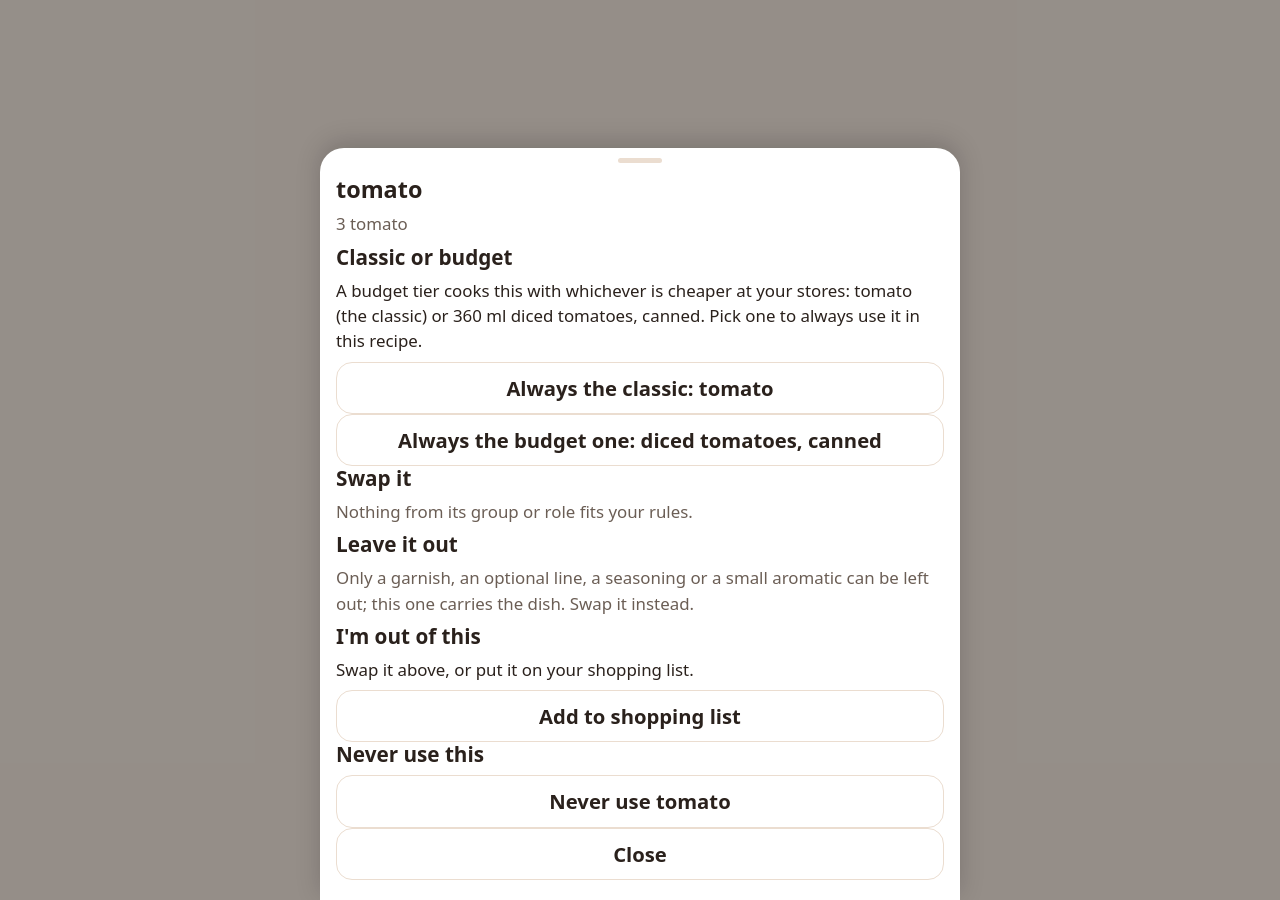
Scenario: a line's ⋯ (AA5) › a line with a budget equivalent can be fixed to either side for this recipe (2b.6 approval, item 4)
Expected: the heading "Classic or budget" is shown, [336,243,512,271]
Expected: the text "whichever is cheaper at your stores: tomato (the classic) or 360 ml diced tomatoes, canned" is shown, [336,278,944,354]
Click the button "Always the budget one: diced tomatoes, canned" at (640, 440), box [336,414,944,466]
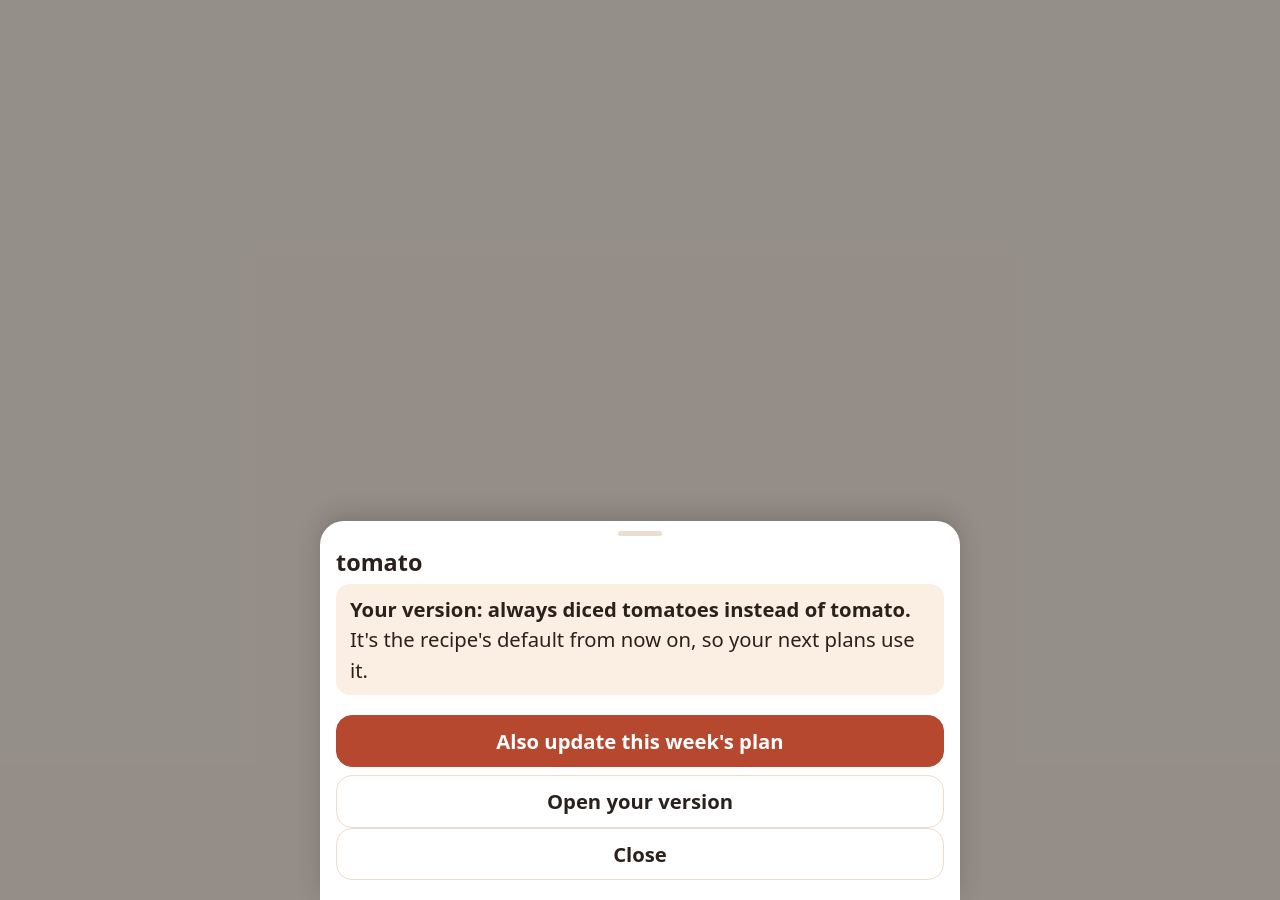
Expected: the text "Your version: always diced tomatoes instead of tomato." is shown, [350,595,911,623]
